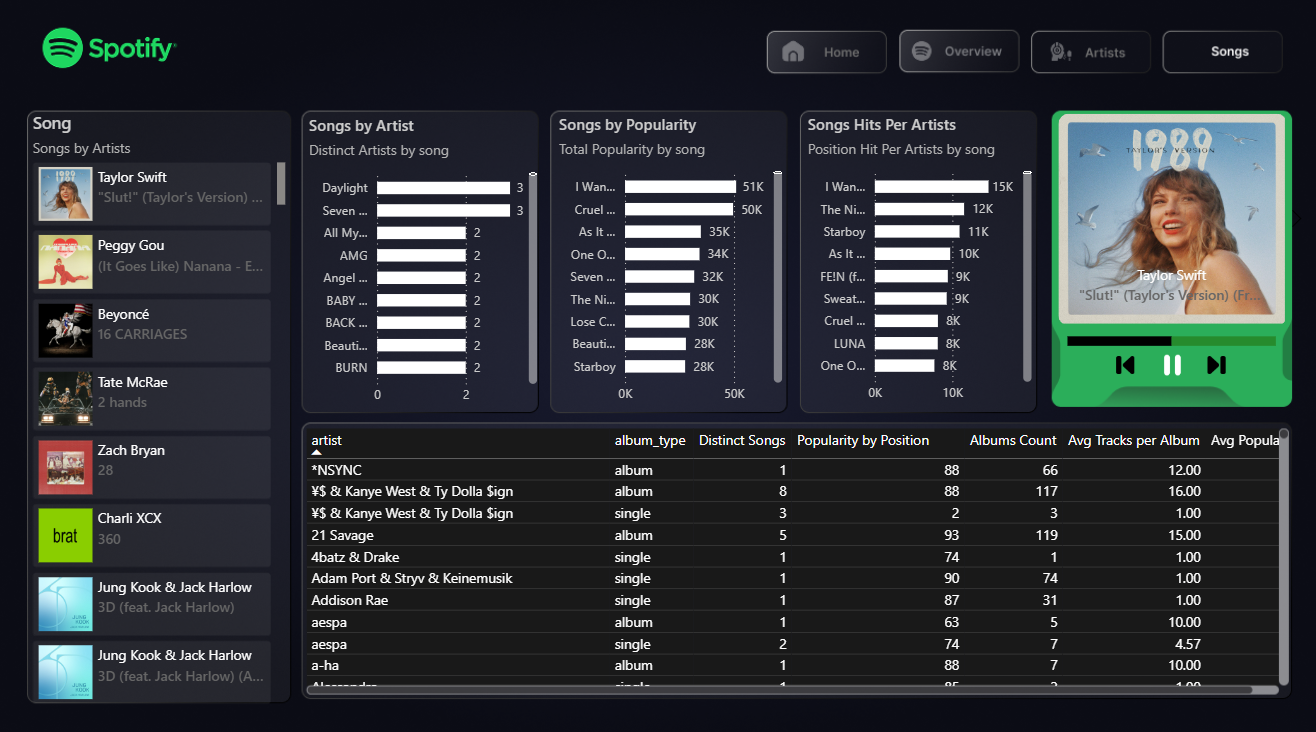

The page's visual inventory and layout, read from the dashboard file:
{"tool":"powerbi","page":{"name":"Songs","canvas":[1280,720],"ordinal":3},"visuals":[{"type":"actionButton","box":[743,33.8,117,39.8],"z":0},{"type":"actionButton","box":[873.3,33.8,114.6,39.8],"z":1000},{"type":"actionButton","box":[999.9,33.8,111,42.2],"z":2000},{"type":"actionButton","box":[1125.4,35,107.4,39.8],"z":3000},{"type":"advancedSlicerVisual","title":"Song ","fields":{"Values":["Top-50-World.song"]},"box":[31.4,111,254.6,581.5],"z":4000},{"type":"advancedSlicerVisual","title":"Song ","fields":{"Values":["Top-50-World.song"]},"box":[1000.1,107.4,271.4,216],"z":5000},{"type":"hundredPercentStackedBarChart","fields":{"Y":["_Measures.Average Popularity","Avg(Top-50-World.popularity)"]},"box":[1030.3,298,211.1,63.9],"z":6000},{"type":"image","box":[1071.3,341.4,39.8,30.2],"z":7000},{"type":"image","box":[1159.4,341.4,39.8,30.2],"z":8000},{"type":"image","box":[1115.6,341.4,40,30],"z":9000},{"type":"tableEx","fields":{"Values":["Top-50-World.artist","Top-50-World.album_type","_Measures.Distinct Songs","_Measures.Weighted Popularity by Position","CountNonNull(Top-50-World.album_type)","_Measures.Avg Total Tracks per Album","_Measures.Average Popularity"]},"box":[294.4,412.6,959.1,266.6],"z":9500},{"type":"clusteredBarChart","title":"Songs by Popularity","fields":{"Category":["Top-50-World.song"],"Y":["Sum(Top-50-World.popularity)"]},"box":[538.9,113.4,225.6,288.3],"z":14000},{"type":"clusteredBarChart","title":"Songs by Artist","fields":{"Category":["Top-50-World.song"],"Y":["_Measures.Distinct Artists"]},"box":[297.6,114.6,230.4,288.3],"z":15000},{"type":"clusteredBarChart","title":"Songs Hits Per Artists","fields":{"Category":["Top-50-World.song"],"Y":["Sum(Top-50-World.position)"]},"box":[779.6,113.8,226.2,287.5],"z":16000}]}

Visuals, with their boxes in screenshot pixels (x1, y1, x2, y2), scaled from the page's 1280x720 canvas onto the 1316x732 screenshot:
actionButton: [764, 34, 884, 75]
actionButton: [898, 34, 1016, 75]
actionButton: [1028, 34, 1142, 77]
actionButton: [1157, 36, 1267, 76]
"Song " advancedSlicerVisual: [32, 113, 294, 704]
"Song " advancedSlicerVisual: [1028, 109, 1307, 329]
hundredPercentStackedBarChart - _Measures.Average Popularity x Avg(Top-50-World.popularity): [1059, 303, 1276, 368]
image: [1101, 347, 1142, 378]
image: [1192, 347, 1233, 378]
image: [1147, 347, 1188, 378]
tableEx - Top-50-World.artist x Top-50-World.album_type: [303, 419, 1289, 691]
"Songs by Popularity" clusteredBarChart: [554, 115, 786, 408]
"Songs by Artist" clusteredBarChart: [306, 117, 543, 410]
"Songs Hits Per Artists" clusteredBarChart: [802, 116, 1034, 408]
